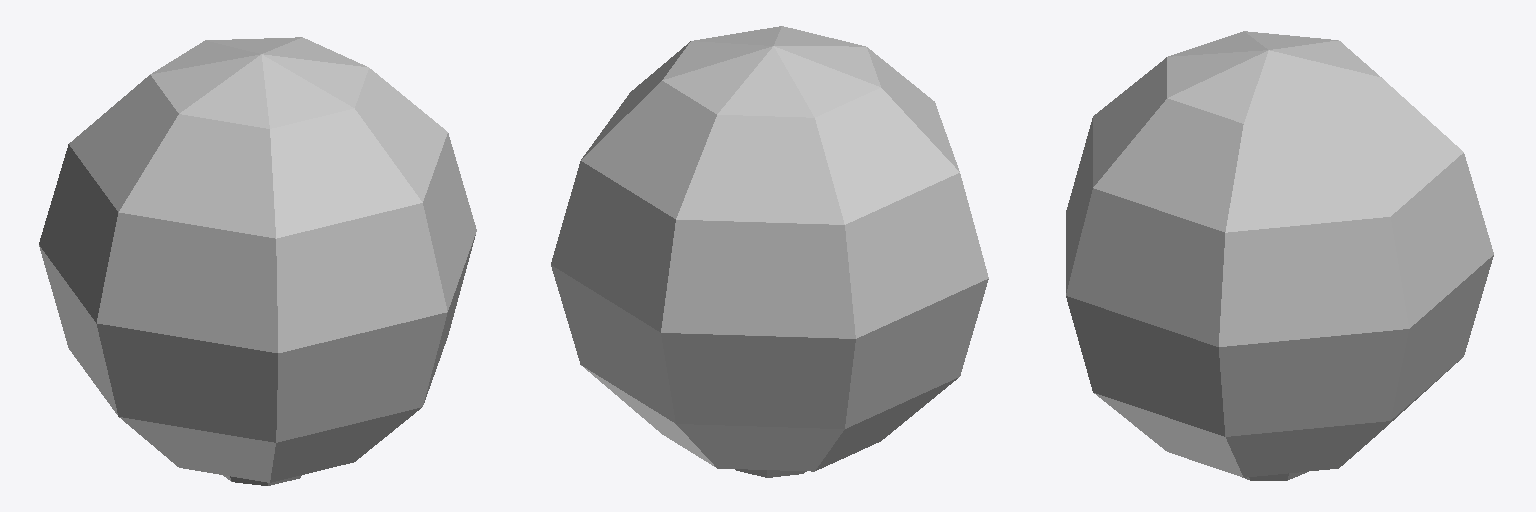
The model's file is pcity_nodes_street_light_ball.obj.
3 views of the same model, side by side, from view 1: azimuth 30°, elevation 25°; view 2: azimuth 150°, elevation 25°; view 3: azimuth 270°, elevation 25° (orthographic).
Visible parts, largest first — view 1: Sphere; view 2: Sphere; view 3: Sphere.
Part boxes in pixels (x1,y1,x2,y2): Sphere: (39, 37, 476, 485); Sphere: (551, 26, 988, 477); Sphere: (1066, 31, 1493, 480).
Bounding box in the file's own units: 1.31 × 1.35 × 1.28.